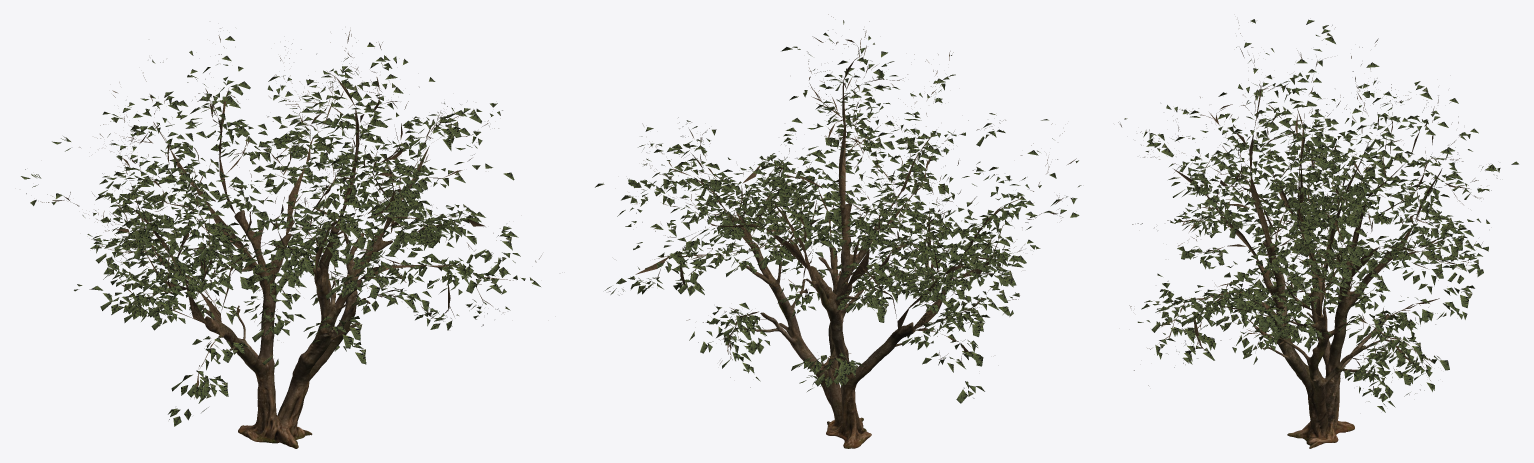
File: tree_anc.glb
The picture shows the model from 3 angles, left to right: view 1: azimuth 30°, elevation 25°; view 2: azimuth 150°, elevation 25°; view 3: azimuth 270°, elevation 25°; orthographic projection. The views are drawn at different scales.
Visible parts, largest first — view 1: jacaranda_tree_LOD0; view 2: jacaranda_tree_LOD0; view 3: jacaranda_tree_LOD0.
Boxes of the visible parts, left/top/right/bottom form: jacaranda_tree_LOD0: left=21, top=28, right=541, bottom=448; jacaranda_tree_LOD0: left=595, top=14, right=1081, bottom=448; jacaranda_tree_LOD0: left=1118, top=19, right=1518, bottom=448.
Size of the model in its own units: 23.29 by 19.33 by 18.43.
3 materials, 3 textured.
